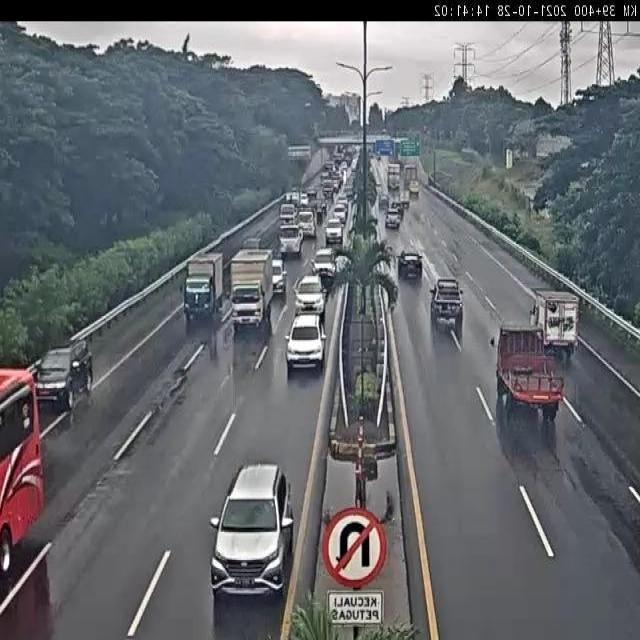Bus: (0, 360, 44, 572)
Car: (194, 456, 306, 611), (30, 340, 97, 422), (284, 313, 328, 382), (428, 278, 467, 329), (292, 275, 326, 311), (310, 248, 338, 280), (397, 250, 424, 278), (325, 218, 344, 246), (273, 257, 285, 298), (384, 209, 402, 232), (333, 205, 346, 222), (408, 182, 421, 196), (378, 196, 389, 209)
Truck: (485, 326, 566, 423), (173, 246, 224, 324), (229, 244, 273, 332), (529, 286, 582, 358), (296, 204, 318, 237), (278, 226, 303, 255), (276, 204, 295, 225), (403, 165, 418, 189), (387, 163, 400, 190)
